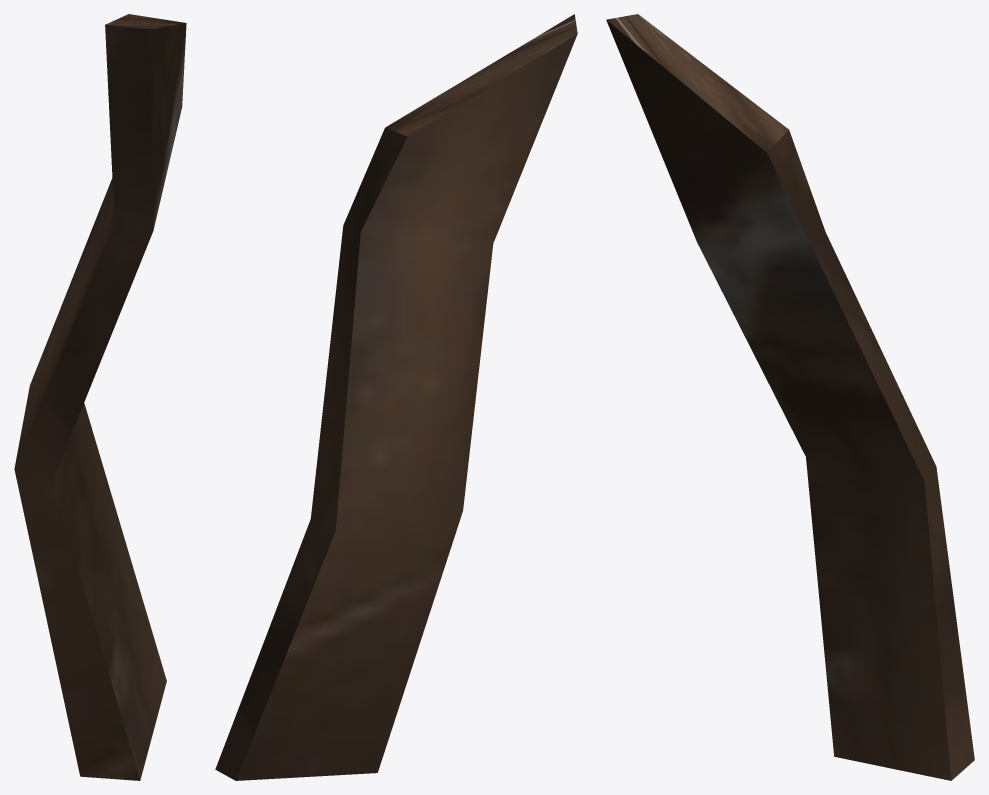
Rendered from plane_wreckage_debris_micro_04.dae.
3 views of the same model, side by side, from view 1: azimuth 30°, elevation 25°; view 2: azimuth 150°, elevation 25°; view 3: azimuth 270°, elevation 25° (orthographic). The views are drawn at different scales.
Visible parts, largest first — view 1: pasted__polySurface52; view 2: pasted__polySurface52; view 3: pasted__polySurface52.
Part boxes in pixels (x1,y1,x2,y2): pasted__polySurface52: [14, 14, 186, 780]; pasted__polySurface52: [215, 14, 577, 780]; pasted__polySurface52: [606, 14, 974, 780].
Bounding box in the file's own units: 11.03 × 35.39 × 17.26.
